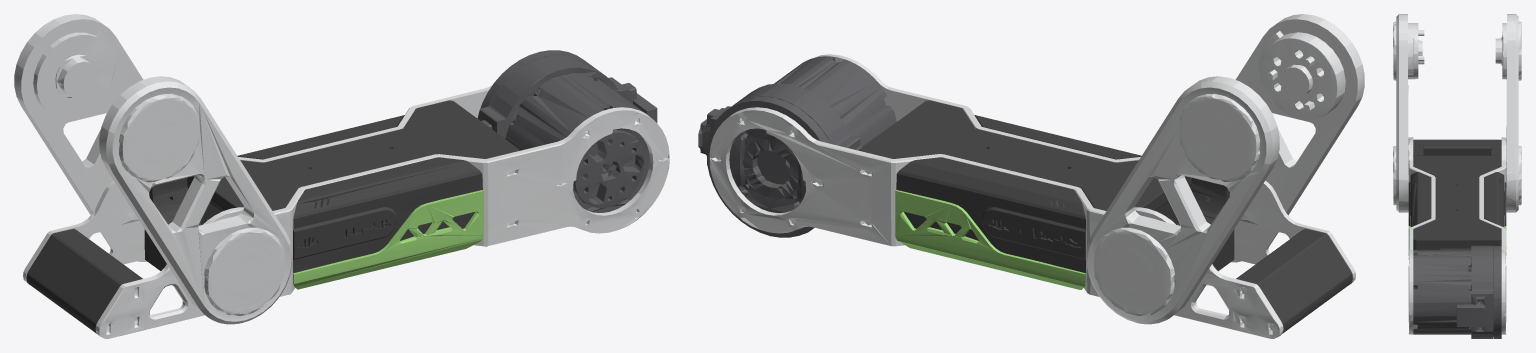
3 views of the same model, side by side, from view 1: azimuth 30°, elevation 25°; view 2: azimuth 150°, elevation 25°; view 3: azimuth 270°, elevation 25° (orthographic). The views are drawn at different scales.
Visible parts, largest first — view 1: link3_visual; view 2: link3_visual; view 3: link3_visual.
Part boxes in pixels (bbox=[...]): link3_visual: bbox=[14, 14, 669, 338]; link3_visual: bbox=[698, 14, 1364, 338]; link3_visual: bbox=[1393, 14, 1521, 338].
Bounding box in the file's own units: 0.2937 × 0.1292 × 0.0865.
